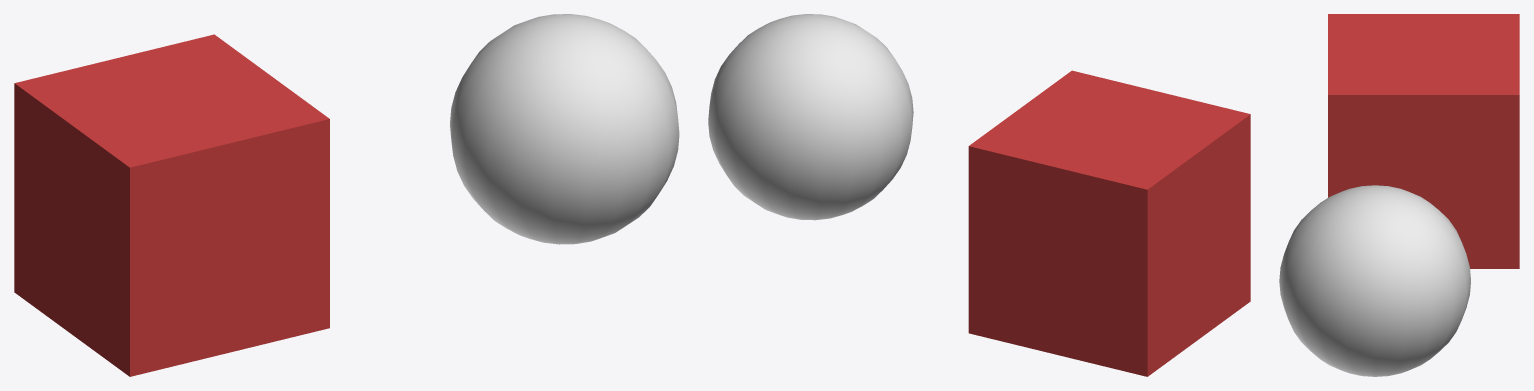
File: postProcessing_HazeEffect.001.fbx
The picture shows the model from 3 angles, left to right: view 1: azimuth 30°, elevation 25°; view 2: azimuth 150°, elevation 25°; view 3: azimuth 270°, elevation 25°; orthographic projection. The views are drawn at different scales.
Visible parts, largest first — view 1: Cube, pSphere1; view 2: Cube, pSphere1; view 3: Cube, pSphere1.
Boxes of the visible parts, x1,y1,x2,y2 form: Cube: (14,34,329,376); pSphere1: (450,14,679,244); Cube: (968,70,1250,376); pSphere1: (708,14,913,220); Cube: (1328,14,1519,268); pSphere1: (1279,185,1470,376).
Size of what is drawn, in the model's own units: 56.33 by 20.88 by 25.06.
